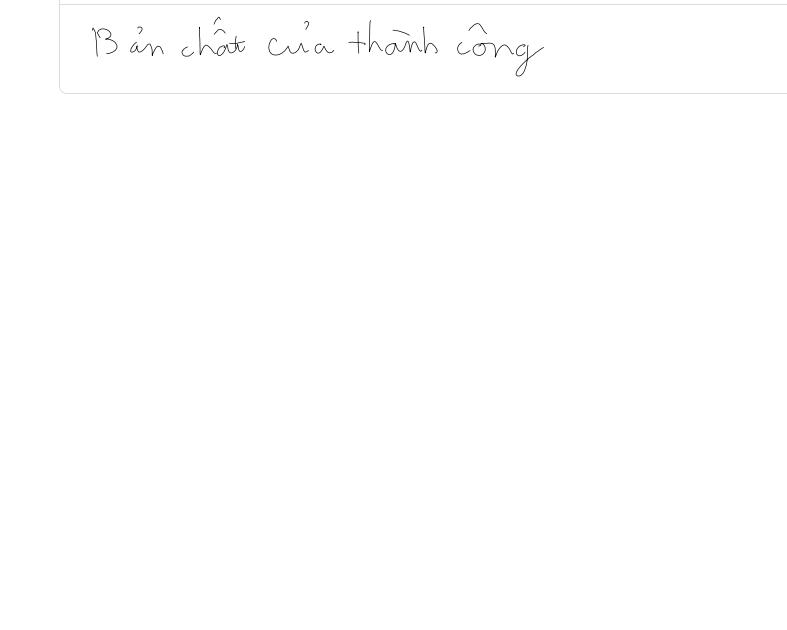text: (89, 14, 545, 80)
